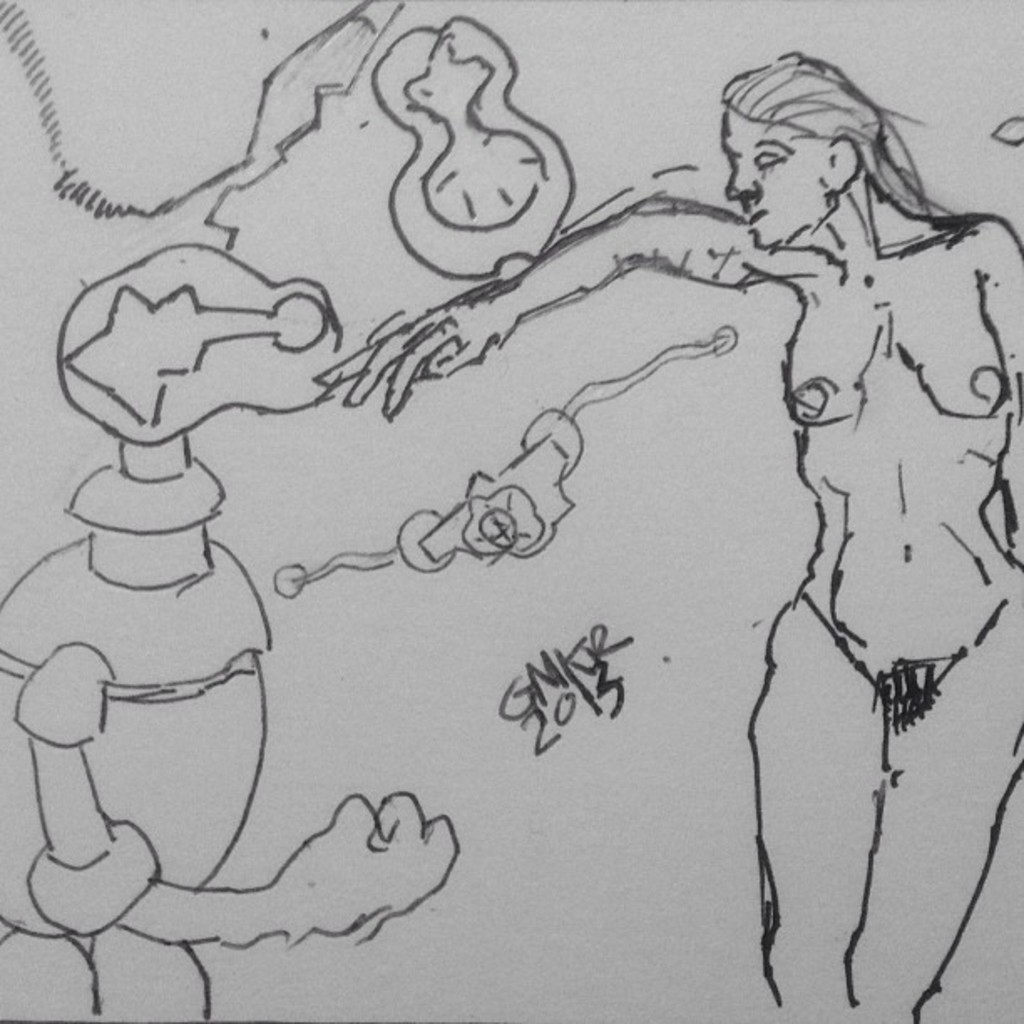Human-face: (723, 112, 817, 249)
